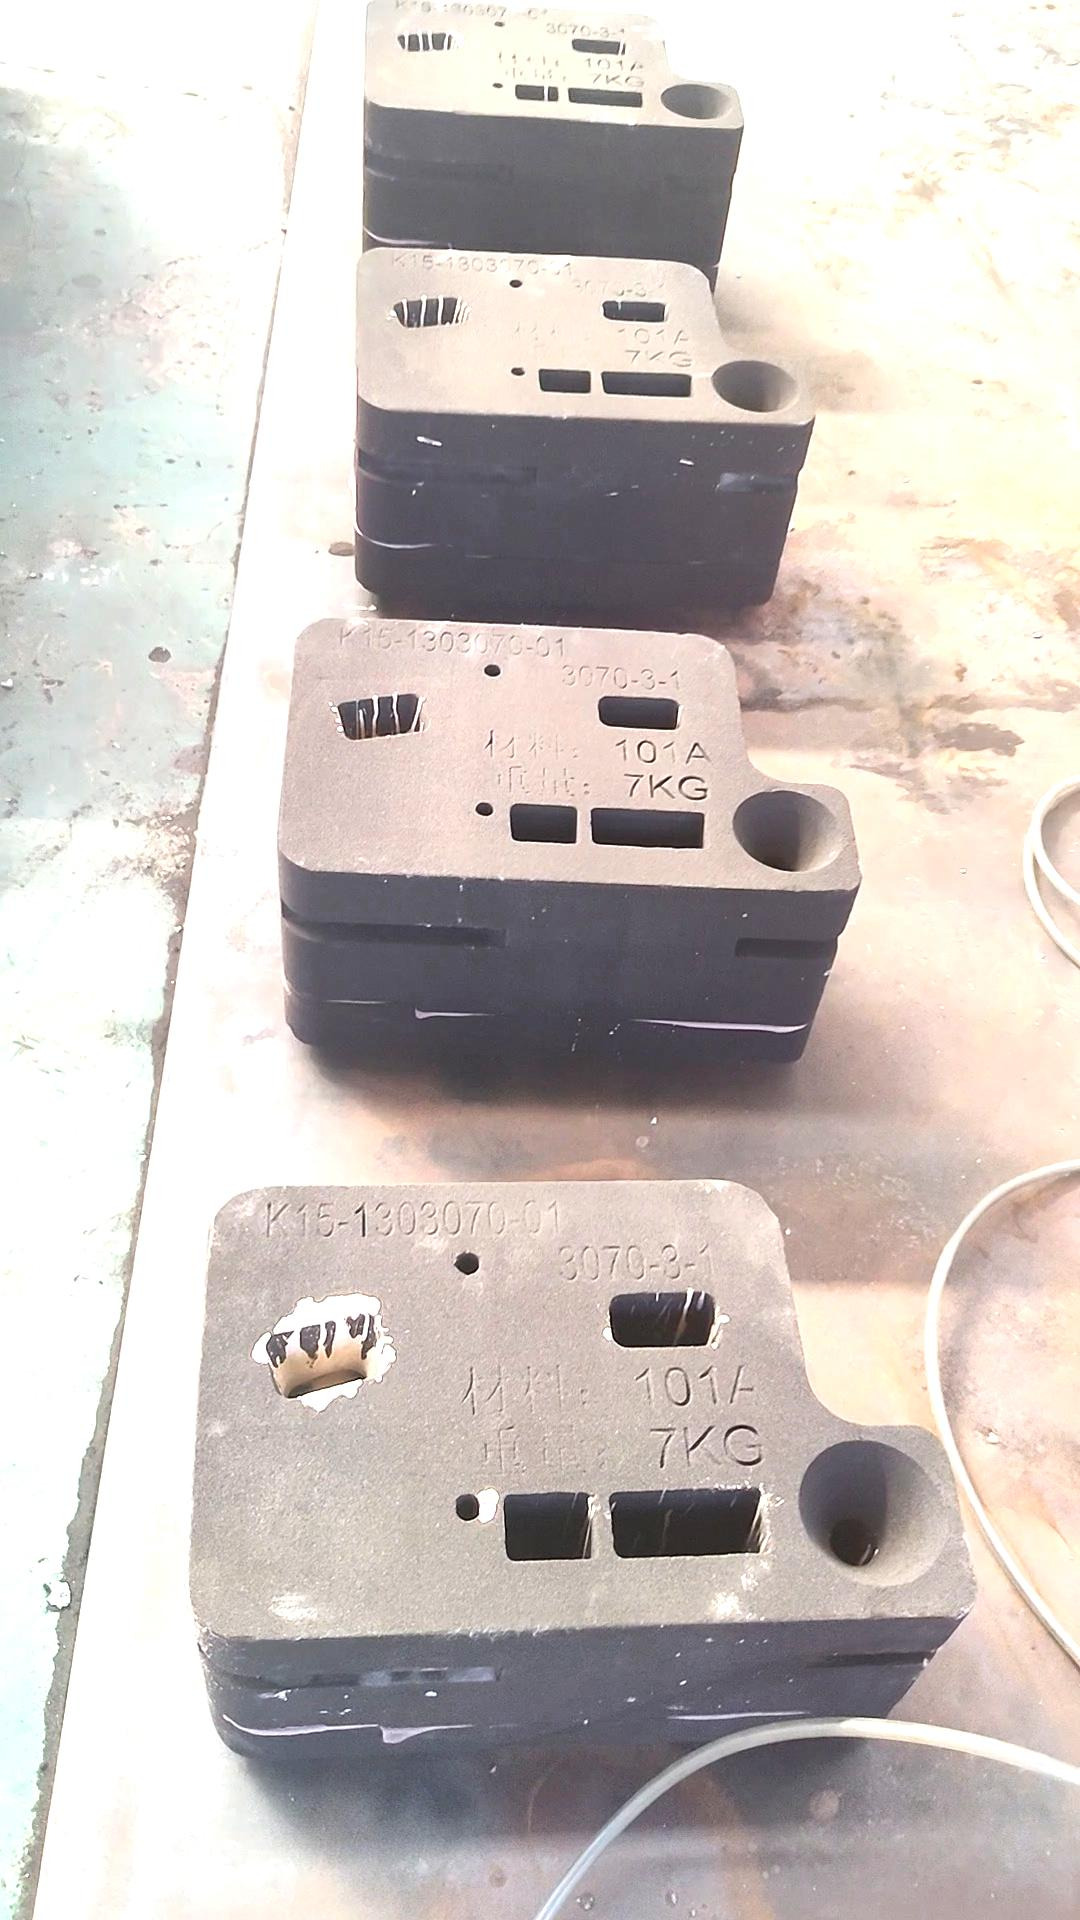pouring hole: (798, 1437, 948, 1582), (733, 787, 845, 872), (708, 357, 799, 413), (658, 76, 732, 123)
